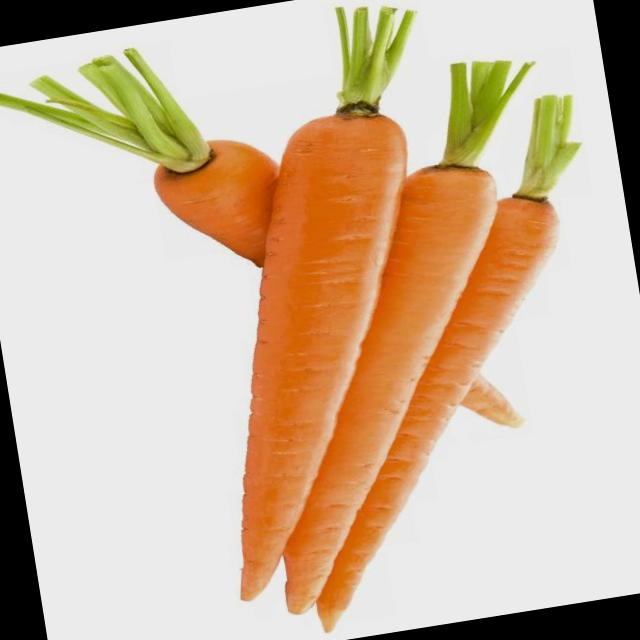carrot: (219, 155, 562, 618), (260, 190, 616, 628), (164, 102, 472, 604)
